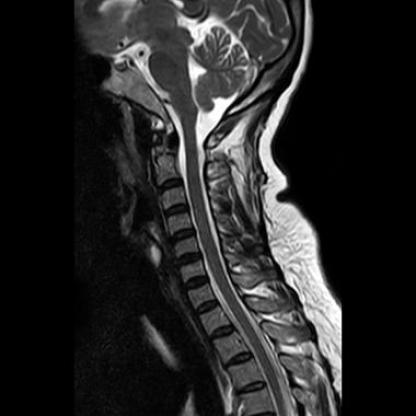Disc Bulgerotation: (181, 275, 209, 292), (169, 227, 196, 244), (156, 178, 185, 193), (175, 252, 202, 268), (162, 203, 189, 219)
Disc Herniationrotation: (194, 300, 219, 315)
